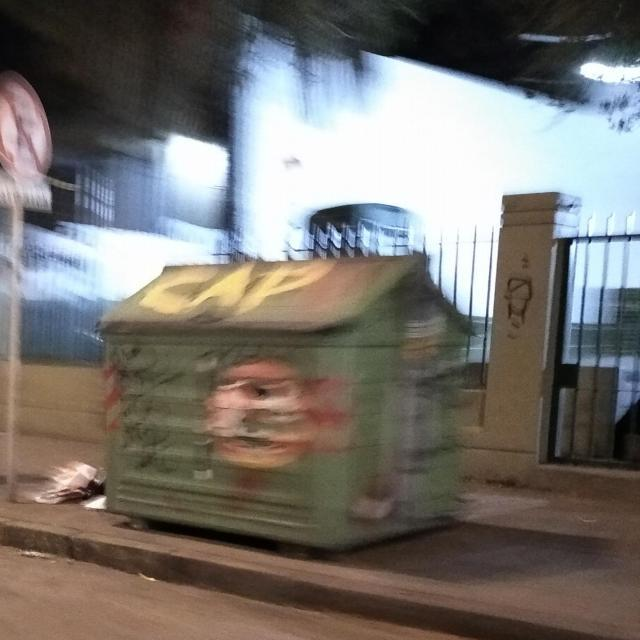garbage: (30, 437, 106, 532)
